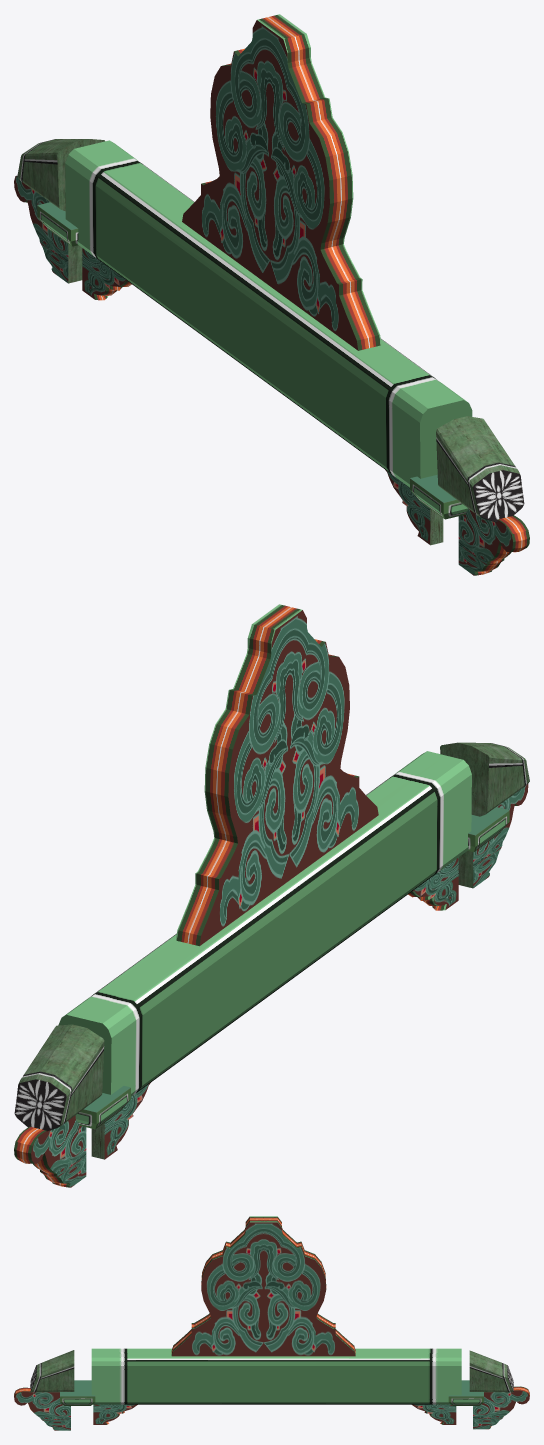
File: SM_R_MiddleBeam_5.fbx
The picture shows the model from 3 angles, top to bottom: view 1: azimuth 30°, elevation 25°; view 2: azimuth 150°, elevation 25°; view 3: azimuth 270°, elevation 25°; orthographic projection. The views are drawn at different scales.
Visible parts, largest first — view 1: SM_R_MiddleBeam_5; view 2: SM_R_MiddleBeam_5; view 3: SM_R_MiddleBeam_5.
Boxes of the visible parts, <box> form: SM_R_MiddleBeam_5: <box>14,14,529,575</box>; SM_R_MiddleBeam_5: <box>14,604,529,1187</box>; SM_R_MiddleBeam_5: <box>14,1216,529,1430</box>.
Bounding box in the file's own units: 33.33 × 452 × 202.
Materials: 5 (5 with a texture image).
